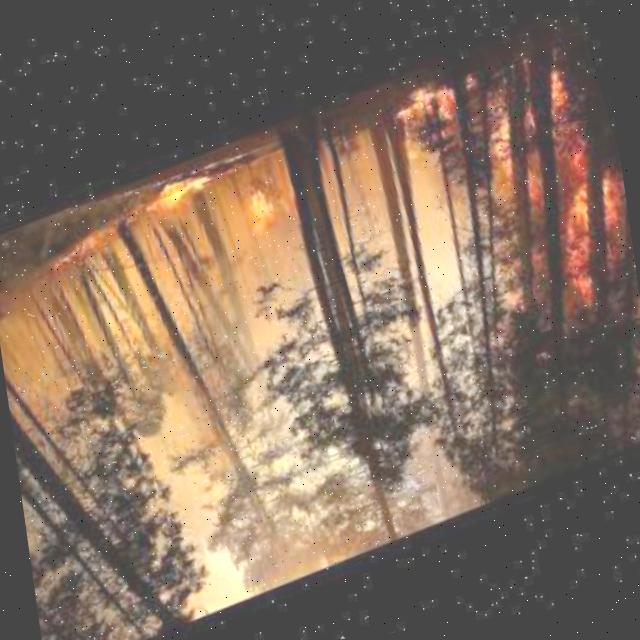fire: (368, 30, 640, 372), (15, 143, 297, 318)
